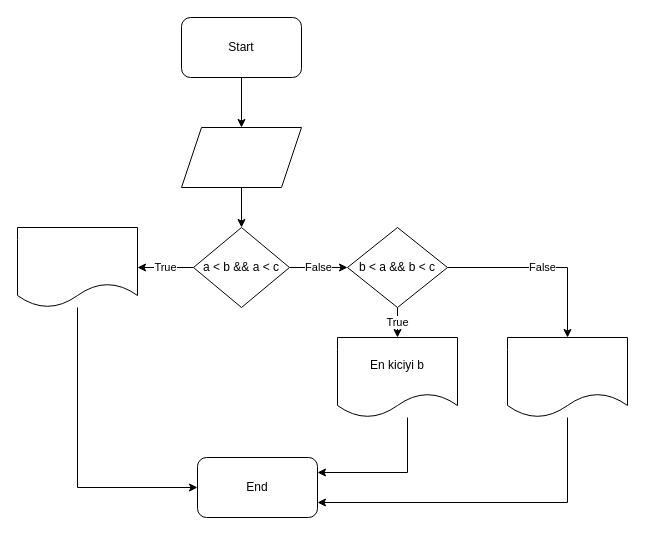
This 645x535 diagram has some shape labels left out. Each missing label, with the centre of its shape:
"a,b,c" belongs at point (241, 157).
"En kiciyi a" belongs at point (77, 267).
"En kiciyi c" belongs at point (567, 377).
